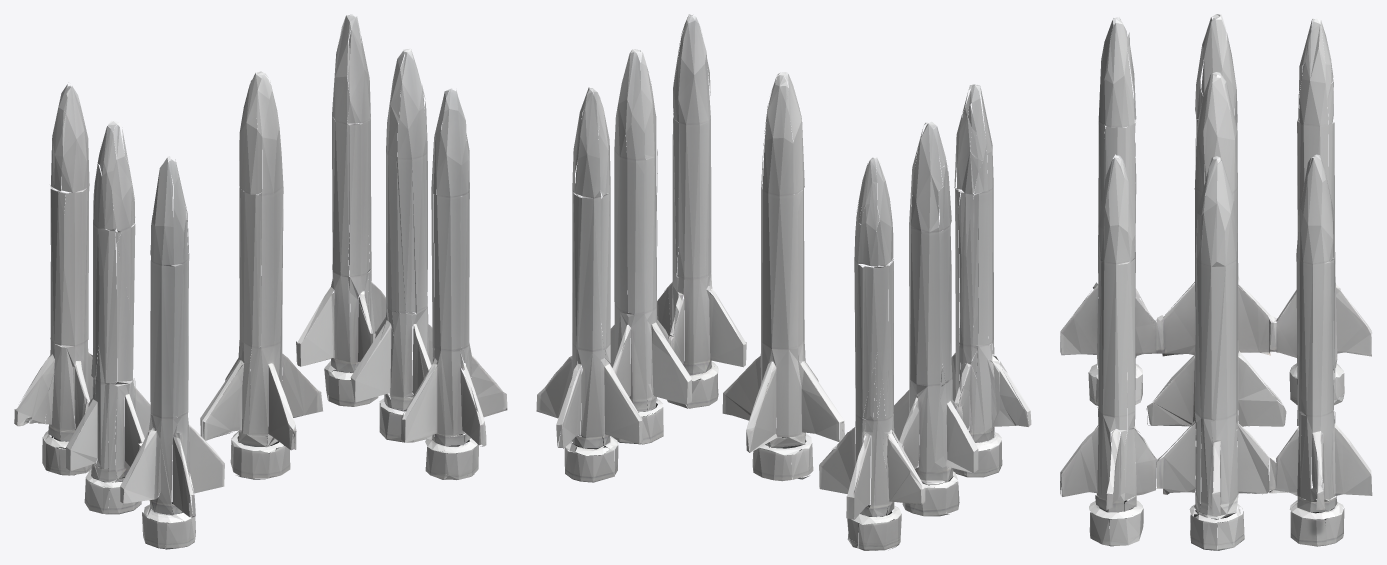
Rendered from missiel.glb.
3 views of the same model, side by side, from view 1: azimuth 30°, elevation 25°; view 2: azimuth 150°, elevation 25°; view 3: azimuth 270°, elevation 25° (orthographic).
Visible parts, largest first — view 1: world.304; view 2: world.304; view 3: world.304.
Boxes of the visible parts, bbox=[...] form: world.304: bbox=[14, 14, 507, 549]; world.304: bbox=[536, 14, 1031, 550]; world.304: bbox=[1060, 14, 1372, 550].
Bounding box in the file's own units: 1 × 0.9852 × 0.7068.
Materials: 1 (1 with a texture image).
